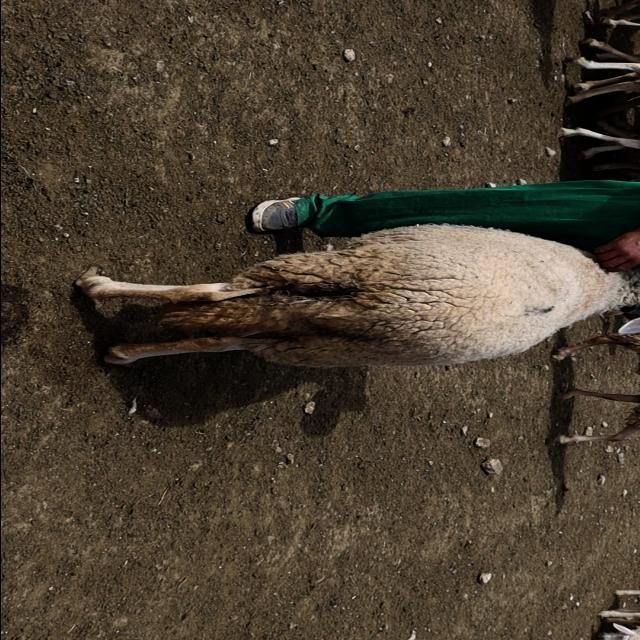Score_4: (75, 224, 640, 368)
